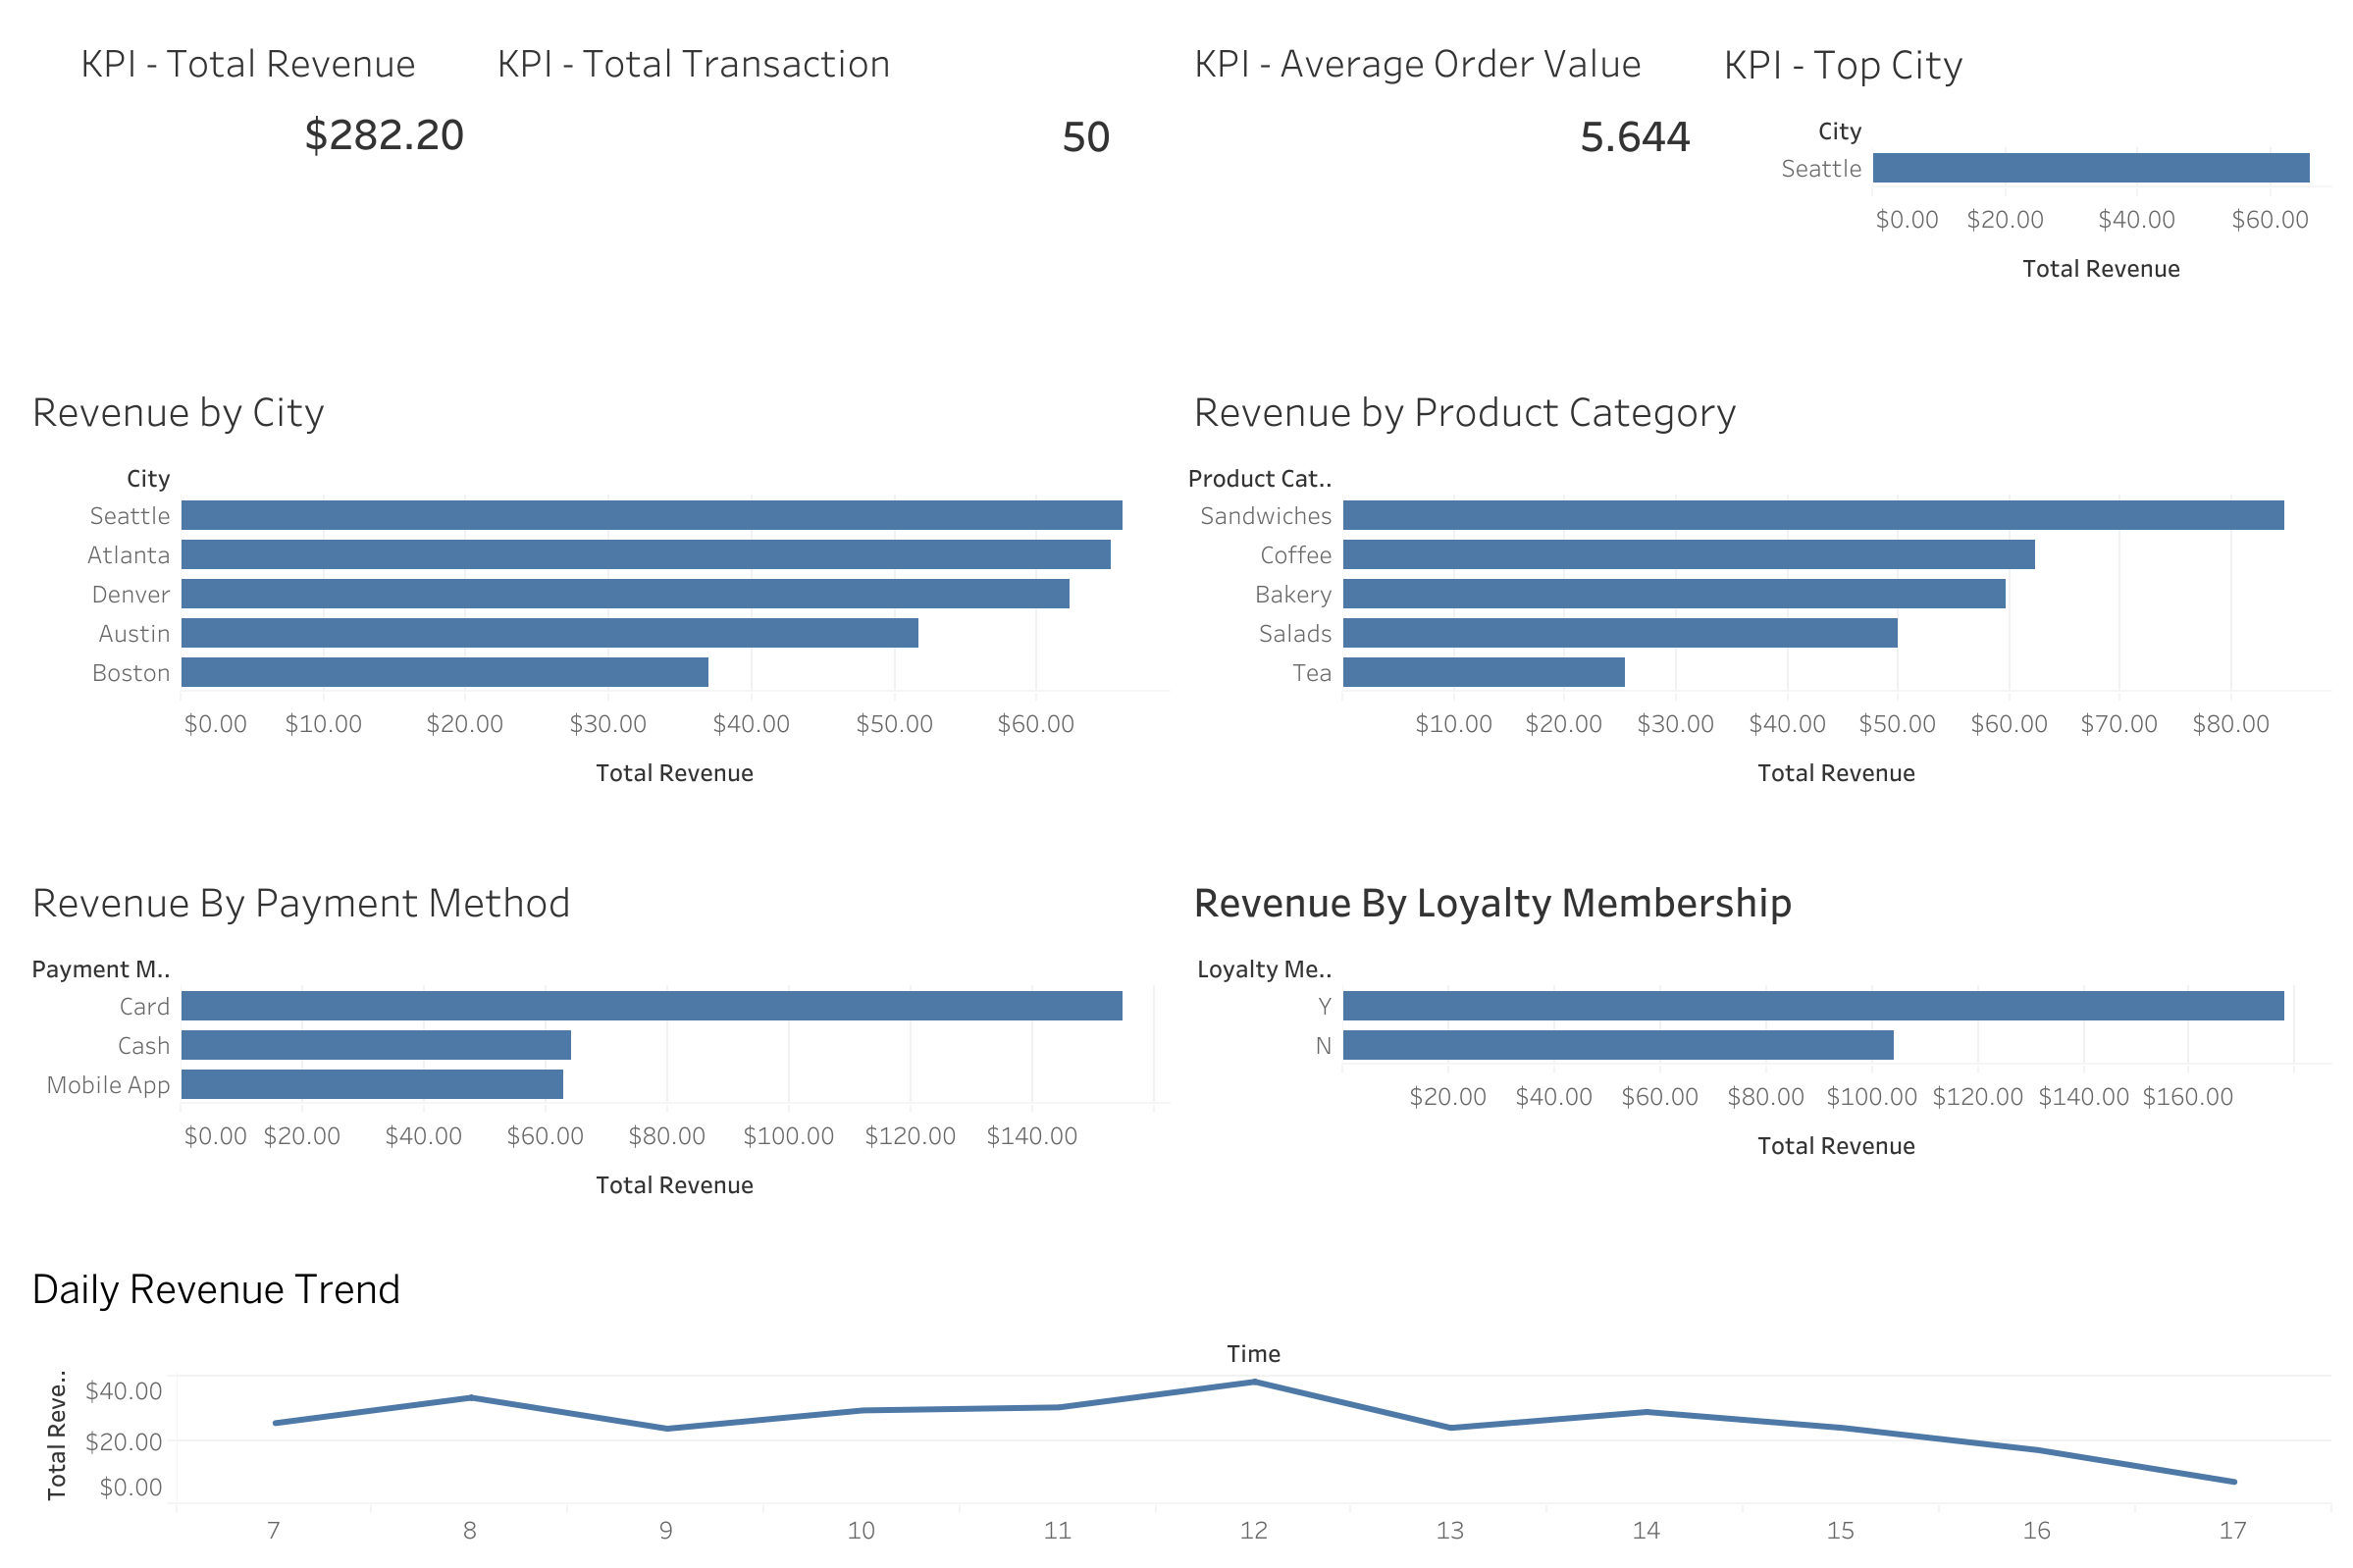

The dashboard page shown, as its layout file describes it:
{"tool":"tableau","page":{"name":"Cafe Sales Dashboard","canvas":[1400,800],"ordinal":0},"visuals":[{"type":"worksheet","title":"KPI - Total Revenue","mark":"Automatic","box":[8,8,277,177]},{"type":"worksheet","title":"KPI - Total Transaction","mark":"Automatic","box":[285,8,310.9,177]},{"type":"worksheet","title":"KPI - Average Order Value","mark":"Automatic","box":[596,8,397.4,177]},{"type":"worksheet","title":"KPI - Top City","mark":"Automatic","cols":["city"],"box":[993.4,8,398.6,177]},{"type":"worksheet","title":"Revenue by City","mark":"Automatic","rows":["city"],"cols":["Calculation_2791809585257086976"],"box":[8,185,692,250]},{"type":"worksheet","title":"Revenue by Product Category","mark":"Automatic","rows":["product_category"],"cols":["Calculation_2791809585257086976"],"box":[700,185,692,250]},{"type":"worksheet","title":"Revenue By Payment Method","mark":"Automatic","rows":["payment_method"],"cols":["Calculation_2791809585257086976"],"box":[8,435,692,198]},{"type":"worksheet","title":"Loyalty Analysis","mark":"Automatic","rows":["loyalty_member"],"cols":["Calculation_2791809585257086976"],"box":[700,435,692,198]},{"type":"worksheet","title":"Revenue over Time ","mark":"Automatic","rows":["Calculation_2791809585257086976"],"cols":["time"],"box":[8,633,1384,159]}]}

Visuals, with their boxes on the page's 1400x800 design canvas (x1, y1, x2, y2). These are canvas units, not pixel positions in the 2353x1568 screenshot, which may show the page scaled, cropped or inside an application window:
"KPI - Total Revenue" worksheet: {"left": 8, "top": 8, "right": 285, "bottom": 185}
"KPI - Total Transaction" worksheet: {"left": 285, "top": 8, "right": 596, "bottom": 185}
"KPI - Average Order Value" worksheet: {"left": 596, "top": 8, "right": 993, "bottom": 185}
"KPI - Top City" worksheet: {"left": 993, "top": 8, "right": 1392, "bottom": 185}
"Revenue by City" worksheet: {"left": 8, "top": 185, "right": 700, "bottom": 435}
"Revenue by Product Category" worksheet: {"left": 700, "top": 185, "right": 1392, "bottom": 435}
"Revenue By Payment Method" worksheet: {"left": 8, "top": 435, "right": 700, "bottom": 633}
"Loyalty Analysis" worksheet: {"left": 700, "top": 435, "right": 1392, "bottom": 633}
"Revenue over Time " worksheet: {"left": 8, "top": 633, "right": 1392, "bottom": 792}
